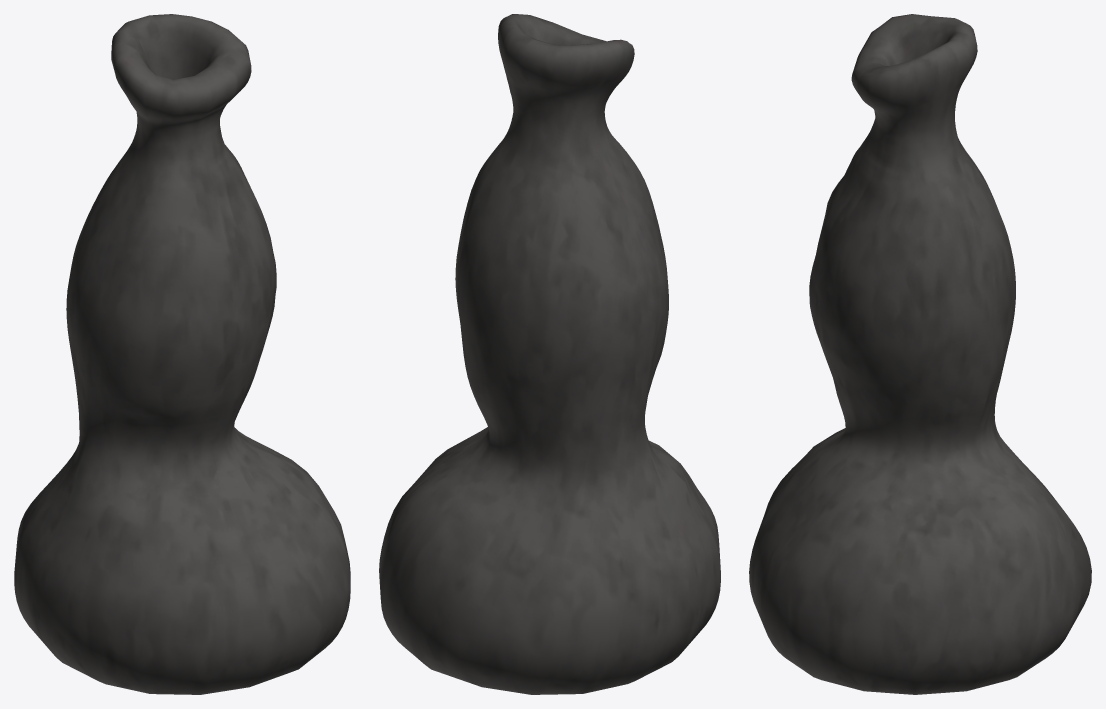
File: vase1-transformed.glb
3 renders of one model, left to right at view 1: azimuth 30°, elevation 25°; view 2: azimuth 150°, elevation 25°; view 3: azimuth 270°, elevation 25°, orthographic. The views are drawn at different scales.
Parts seen in each view (by area): view 1: Cube.001; view 2: Cube.001; view 3: Cube.001.
Boxes of the visible parts, box(x1,y1,x2,y2) form: Cube.001: box(14, 14, 350, 694); Cube.001: box(379, 14, 720, 694); Cube.001: box(749, 14, 1091, 694).
Bounding box in the file's own units: 1.62 × 3.3 × 1.66.
1 material, 1 textured.
